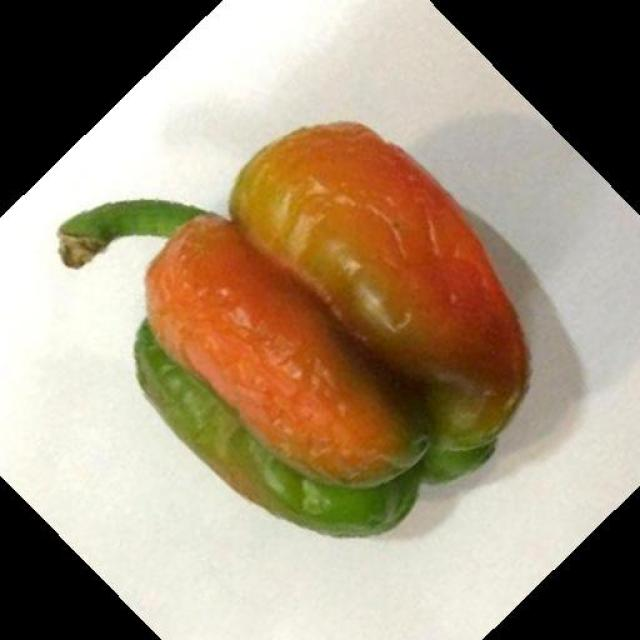Stale_Capsicum: (106, 107, 526, 534)
